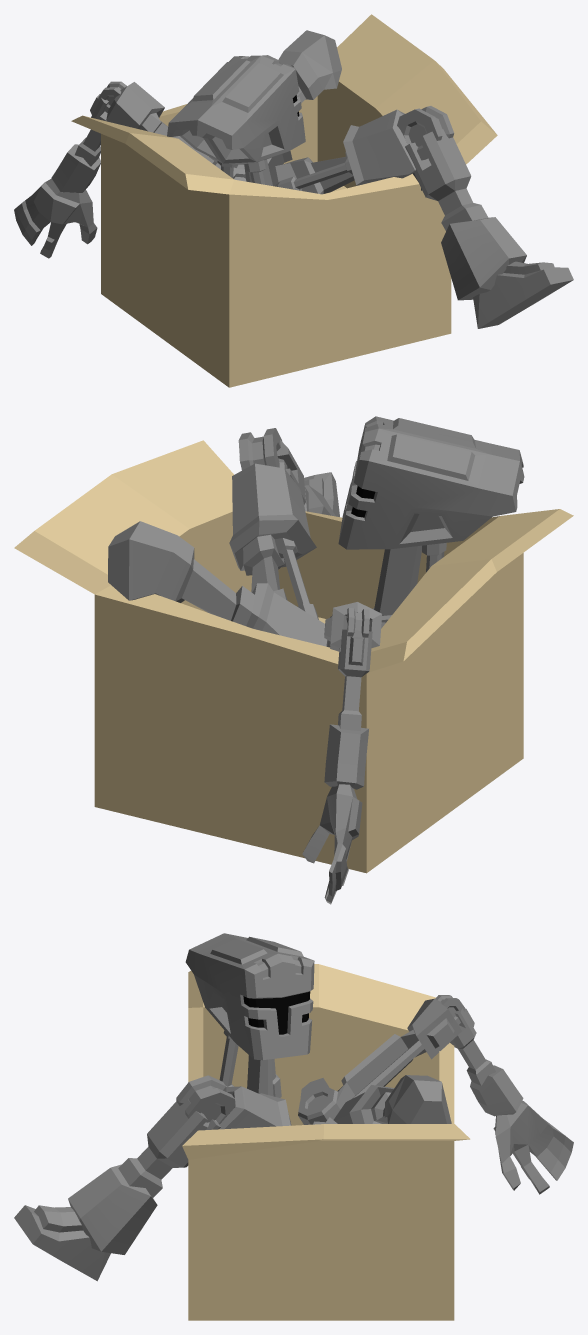
File: RobotParts_01.fbx
3 renders of one model, top to bottom at view 1: azimuth 30°, elevation 25°; view 2: azimuth 150°, elevation 25°; view 3: azimuth 270°, elevation 25°, orthographic. The views are drawn at different scales.
Parts seen in each view (by area): view 1: RobotParts_01; view 2: RobotParts_01; view 3: RobotParts_01.
Part boxes in pixels (x1=…): RobotParts_01: x1=14, y1=14, x2=573, y2=387; RobotParts_01: x1=14, y1=416, x2=573, y2=904; RobotParts_01: x1=14, y1=933, x2=573, y2=1320.
Bounding box in the file's own units: 80.05 × 67.36 × 117.
